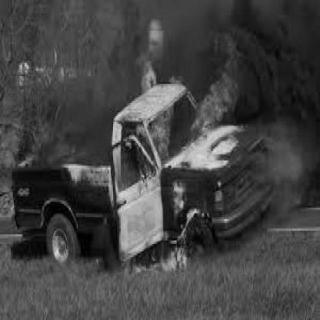Fire: (133, 39, 255, 260), (42, 112, 86, 166)
Smoke: (235, 0, 318, 114)
